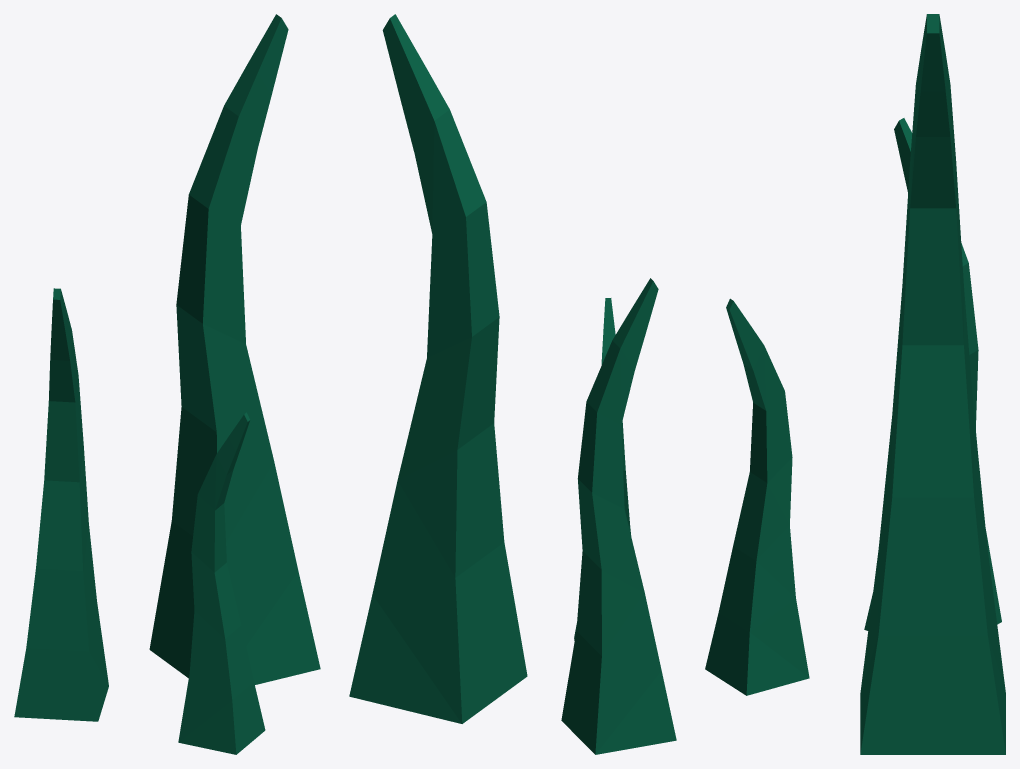
File: world_1_grass_3.dae
3 views of the same model, side by side, from view 1: azimuth 30°, elevation 25°; view 2: azimuth 150°, elevation 25°; view 3: azimuth 270°, elevation 25° (orthographic). The views are drawn at different scales.
Visible parts, largest first — view 1: grass_3; view 2: grass_3; view 3: grass_3.
Boxes of the visible parts, <box> form: grass_3: <box>14,14,320,754</box>; grass_3: <box>349,14,676,754</box>; grass_3: <box>705,14,1005,754</box>.
Size of the model in its own units: 0.2571 by 0.2067 by 0.5571.
